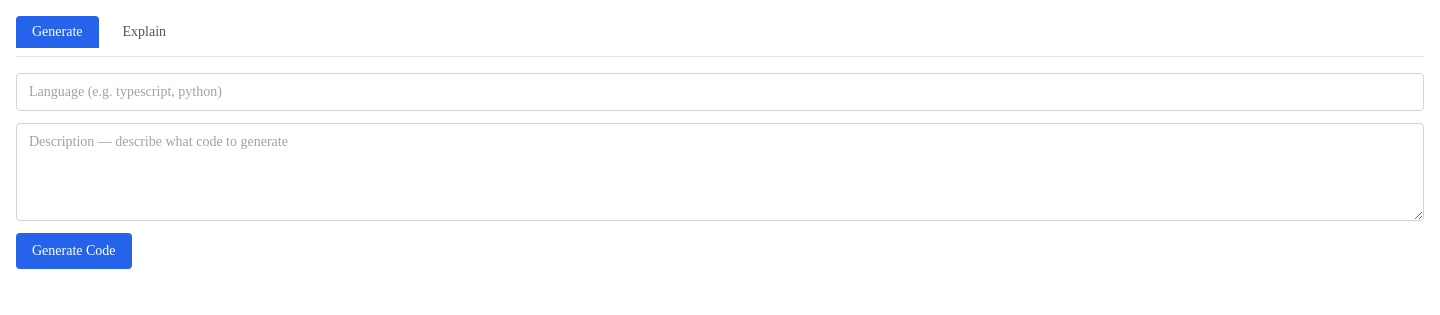
it: CodeAssistant generate flow › shows error message when fetch throws (network error)
This screenshot has width=1440, height=315.
Type "ts" into the field with placeholder "Language (e.g. typescript, python)" at x=720, y=92, box [16,73,1424,111]
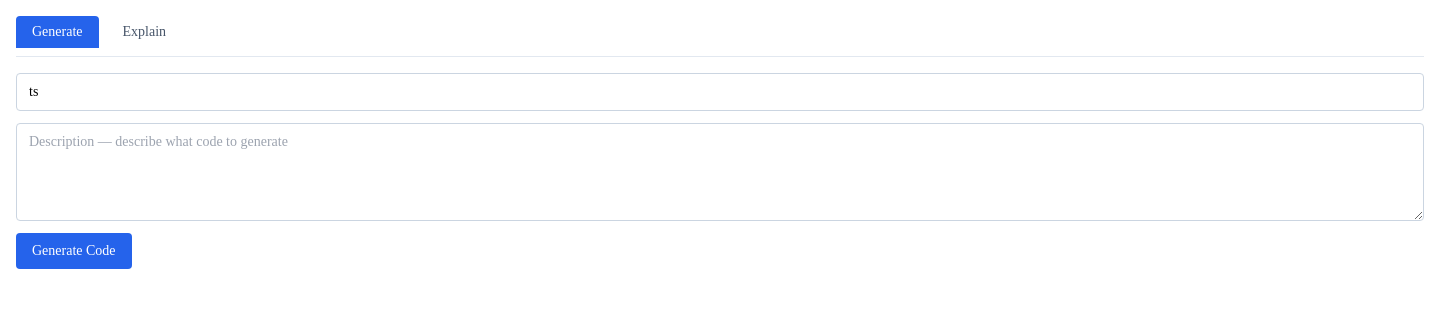
Type "anything" into the text box with placeholder "Description — describe what code to generate" at x=720, y=172, box [16,123,1424,221]
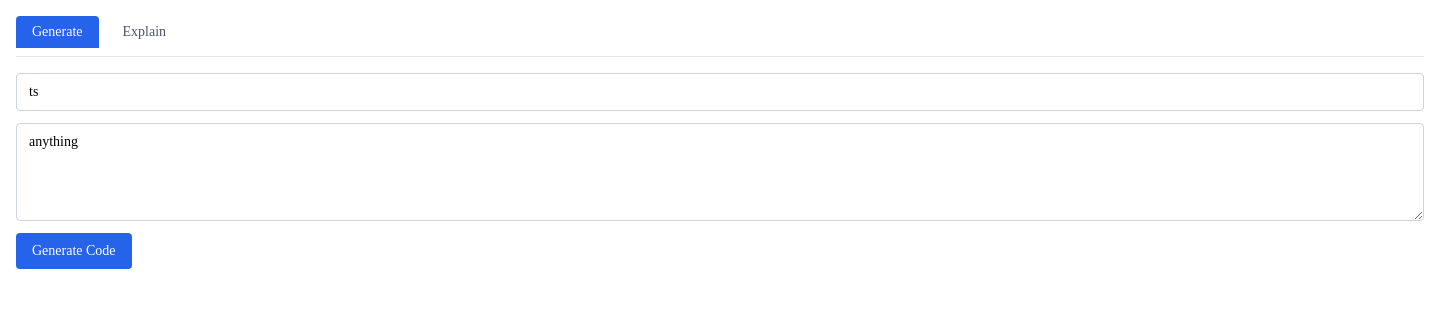
Click the button "Generate Code" at x=74, y=251, box [16,233,132,269]
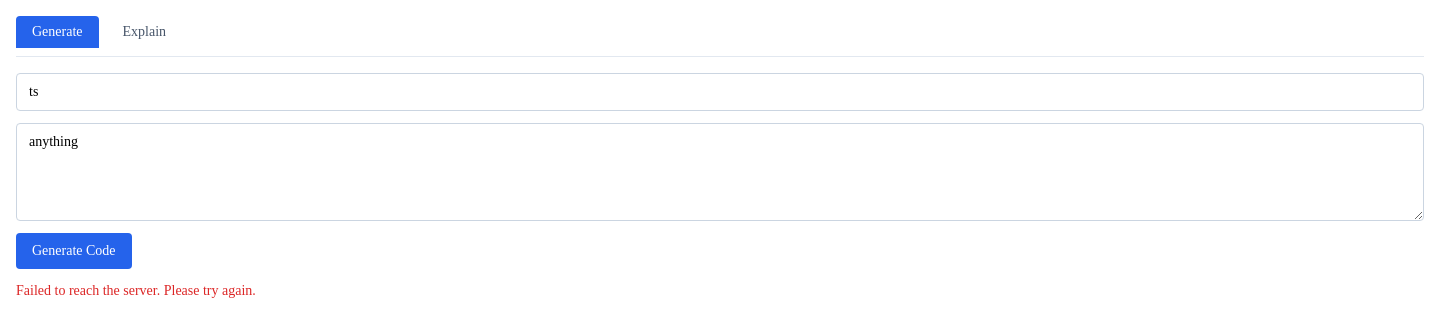
Result: the text "Failed to reach the server. Please try again." is shown at [16,283,256,298]
